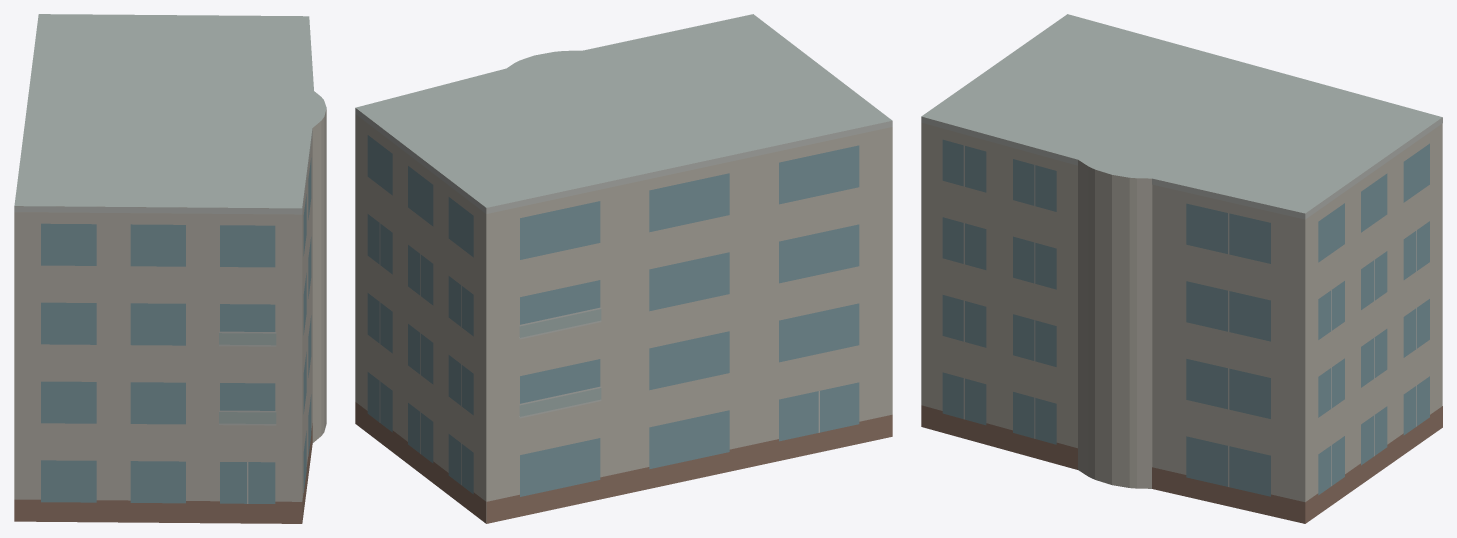
Rendered from survey-upis-32673770.glb.
The picture shows the model from 3 angles, left to right: view 1: azimuth 30°, elevation 25°; view 2: azimuth 150°, elevation 25°; view 3: azimuth 270°, elevation 25°; orthographic projection.
Visible parts, largest first — view 1: survey-upis-32673770.tmp; view 2: survey-upis-32673770.tmp; view 3: survey-upis-32673770.tmp.
Boxes of the visible parts, x1,y1,x2,y2 form: survey-upis-32673770.tmp: [14, 14, 326, 523]; survey-upis-32673770.tmp: [355, 14, 892, 523]; survey-upis-32673770.tmp: [921, 14, 1442, 523].
Size of the model in its own units: 17.25 by 12.5 by 19.04.
